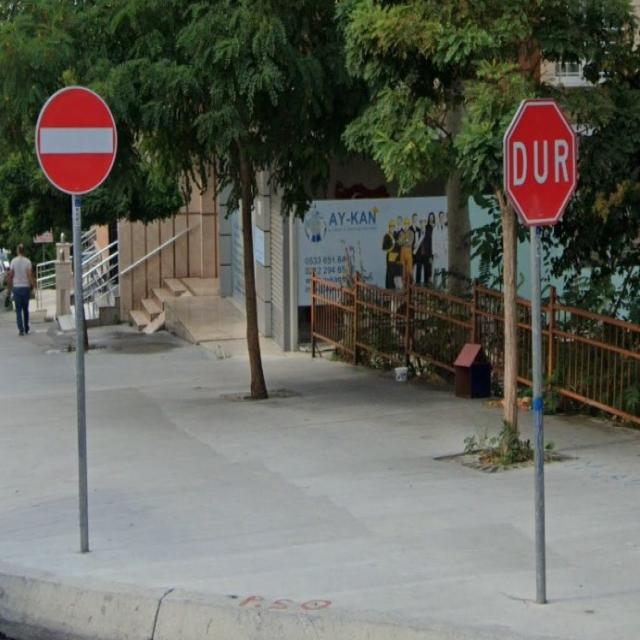dur: (504, 99, 576, 222)
girisyok: (35, 85, 119, 194)
